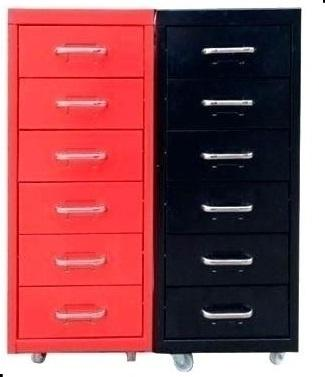cabinet_door: (165, 17, 289, 73), (164, 287, 288, 341), (165, 179, 289, 231), (166, 130, 290, 182), (18, 23, 142, 74), (19, 180, 143, 231), (18, 132, 142, 183), (166, 76, 290, 127), (164, 233, 289, 283), (18, 290, 142, 339), (19, 78, 143, 127), (18, 235, 142, 284)
handle: (200, 40, 259, 66), (197, 146, 255, 172), (198, 198, 255, 223), (198, 249, 256, 273), (199, 304, 255, 328), (198, 91, 256, 113), (52, 145, 109, 166), (54, 93, 110, 114), (52, 199, 109, 219), (53, 252, 109, 272), (52, 305, 109, 324), (52, 40, 110, 58)
